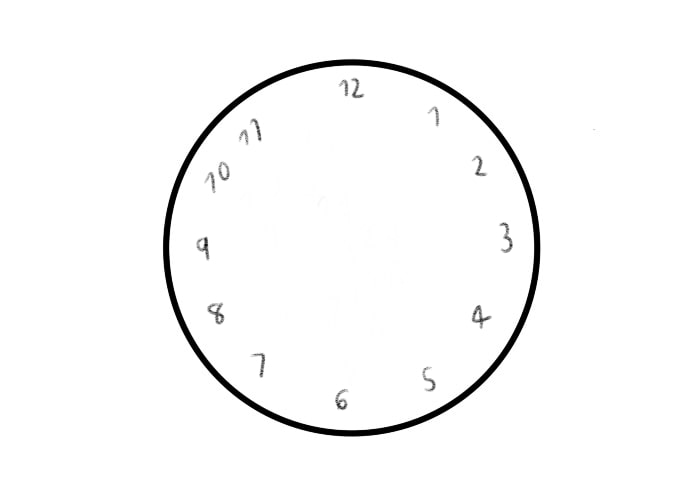eight: (208, 301, 226, 327)
eleven: (237, 116, 265, 150)
five: (417, 360, 441, 393)
four: (472, 302, 491, 329)
nine: (193, 235, 214, 266)
one: (427, 96, 441, 131)
seven: (251, 352, 269, 380)
six: (332, 385, 352, 412)
ten: (203, 162, 232, 196)
three: (497, 216, 515, 255)
twelve: (335, 76, 370, 102)
two: (472, 149, 491, 186)
